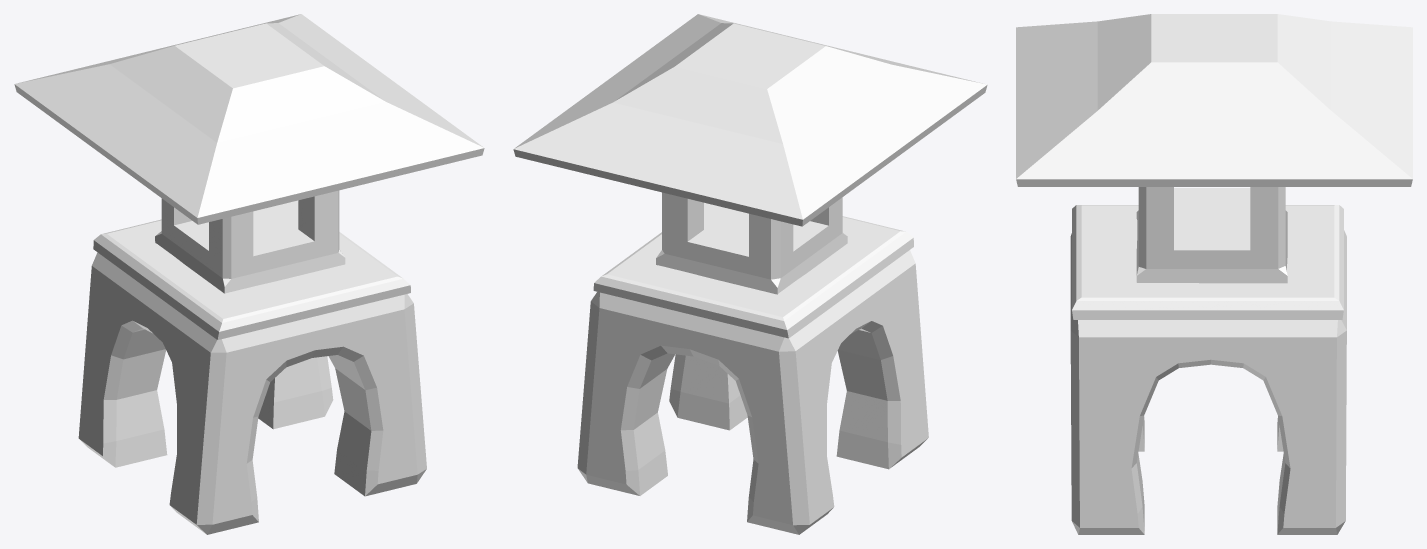
Rendered from Laterne_stein_klein.fbx.
3 views of the same model, side by side, from view 1: azimuth 30°, elevation 25°; view 2: azimuth 150°, elevation 25°; view 3: azimuth 270°, elevation 25° (orthographic). The views are drawn at different scales.
Parts seen in each view (by area): view 1: Cube.007; view 2: Cube.007; view 3: Cube.007.
Part boxes in pixels (box(x1,y1,x2,y2)): Cube.007: box(14, 14, 484, 534); Cube.007: box(513, 14, 987, 534); Cube.007: box(1016, 14, 1412, 534).
Bounding box in the file's own units: 282 × 382 × 311.
